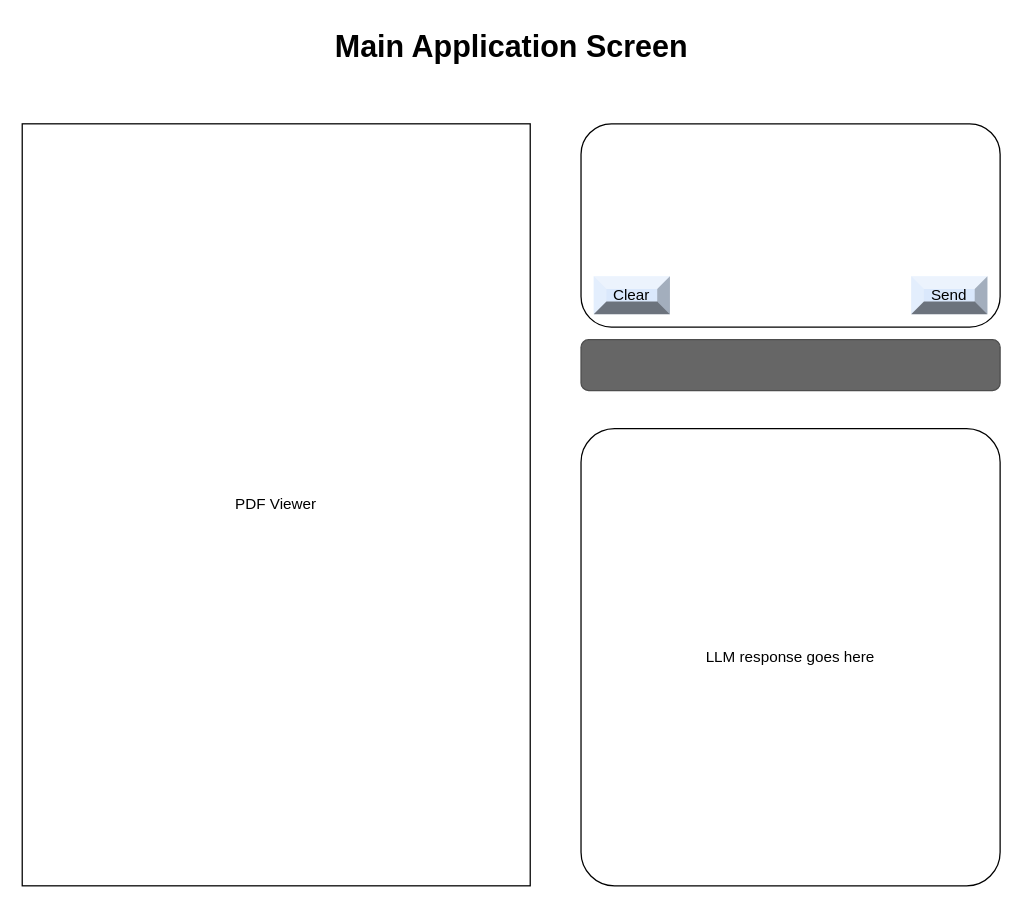
The diagram is 1022 pixels wide and 908 high, and some of its shapes have lost their labels. Here are the shapes that lost their labels. From the top down, the box of each, then its label:
(580, 123, 1000, 327): Ask a question about PDF
(580, 338, 1000, 391): Reset
